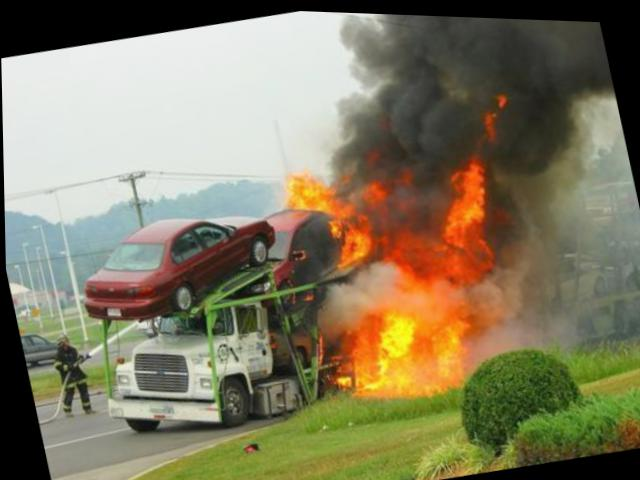fire: (280, 115, 542, 408)
